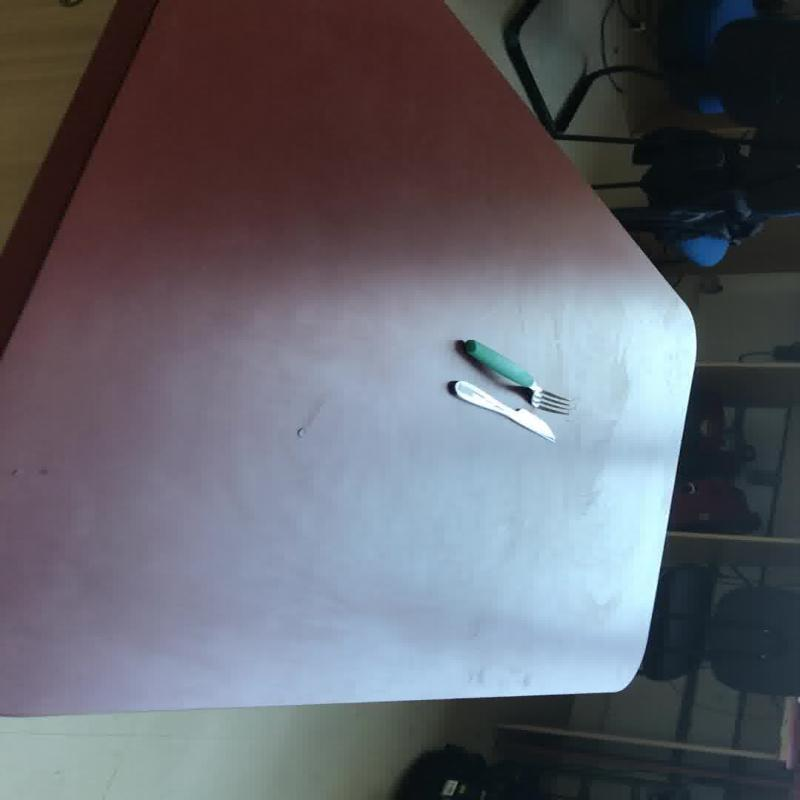fork: (461, 338, 570, 414)
knife: (444, 379, 556, 443)
